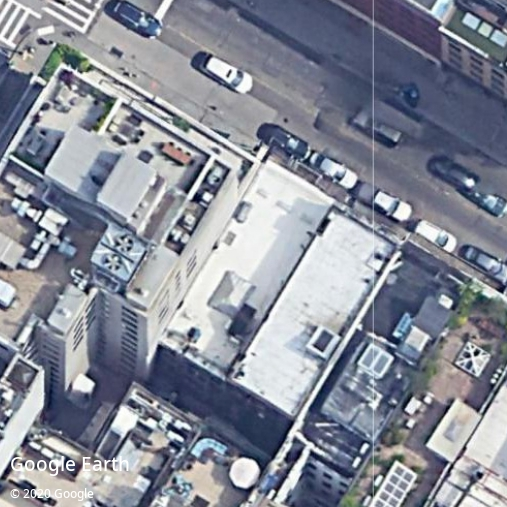Vent: (113, 235, 133, 253), (104, 254, 122, 271)
